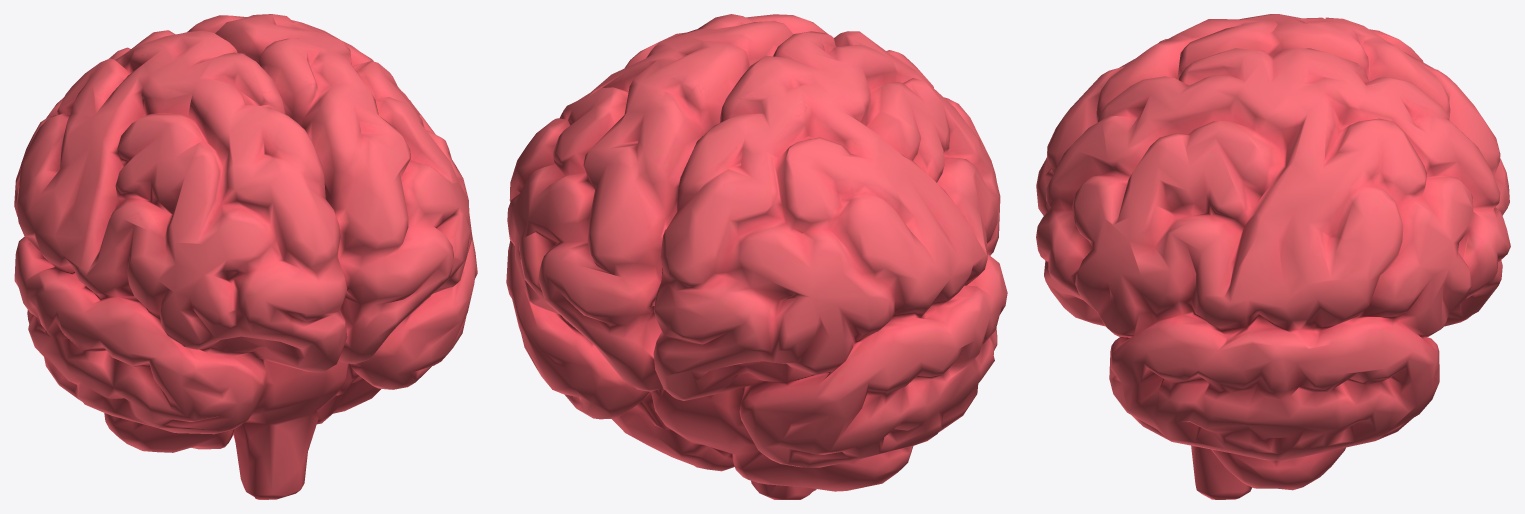
The model's file is cerebro.glb.
3 views of the same model, side by side, from view 1: azimuth 30°, elevation 25°; view 2: azimuth 150°, elevation 25°; view 3: azimuth 270°, elevation 25° (orthographic). The views are drawn at different scales.
Parts seen in each view (by area): view 1: corpo; view 2: corpo; view 3: corpo.
Boxes of the visible parts, x1,y1,x2,y2 form: corpo: (14,14,477,499); corpo: (506,14,1007,499); corpo: (1036,14,1510,499).
Size of the model in its own units: 0.9713 by 0.979 by 0.9291.
Materials: 1 (1 with a texture image).
